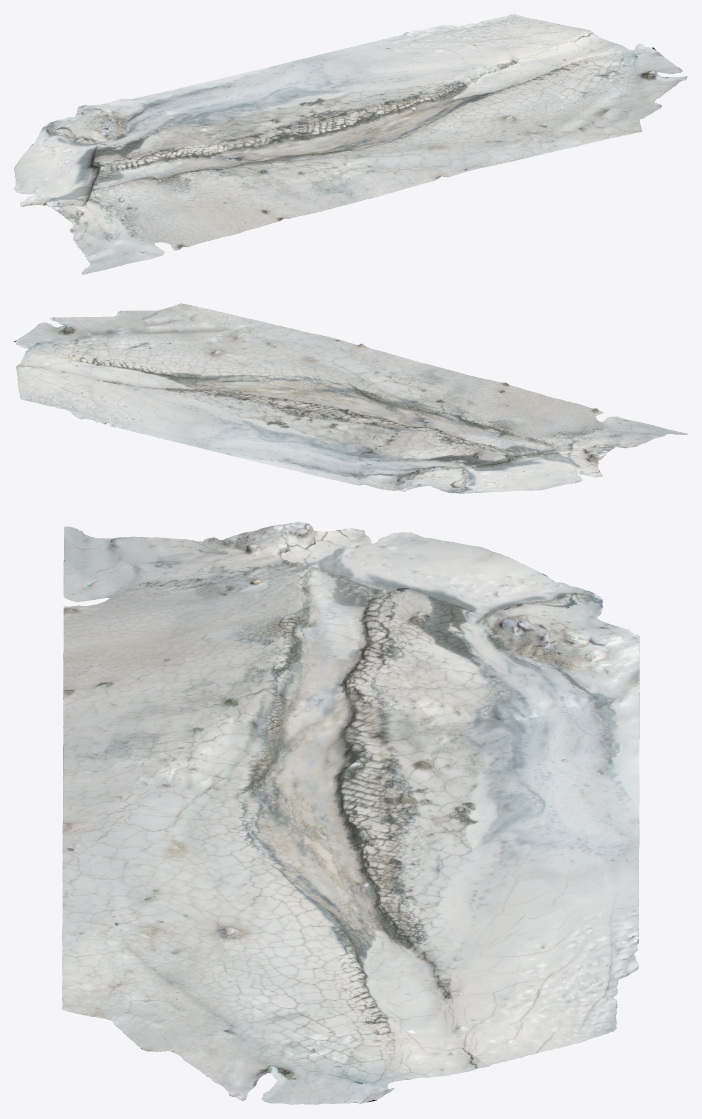
File: terrain_cracked.fbx
The picture shows the model from 3 angles, top to bottom: view 1: azimuth 30°, elevation 25°; view 2: azimuth 150°, elevation 25°; view 3: azimuth 270°, elevation 25°; orthographic projection. The views are drawn at different scales.
Parts seen in each view (by area): view 1: Model; view 2: Model; view 3: Model.
Part boxes in pixels (box(x1,y1,x2,y2)): Model: box(14, 14, 687, 274); Model: box(14, 303, 687, 493); Model: box(62, 522, 639, 1104).
Size of the model in its own units: 2310 by 5513 by 166.
